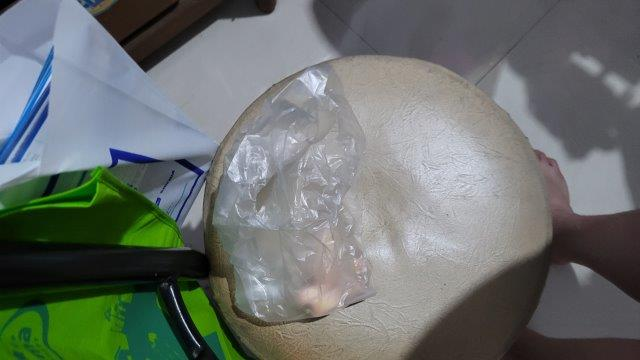plastik: (1, 1, 214, 250), (216, 64, 375, 321)
